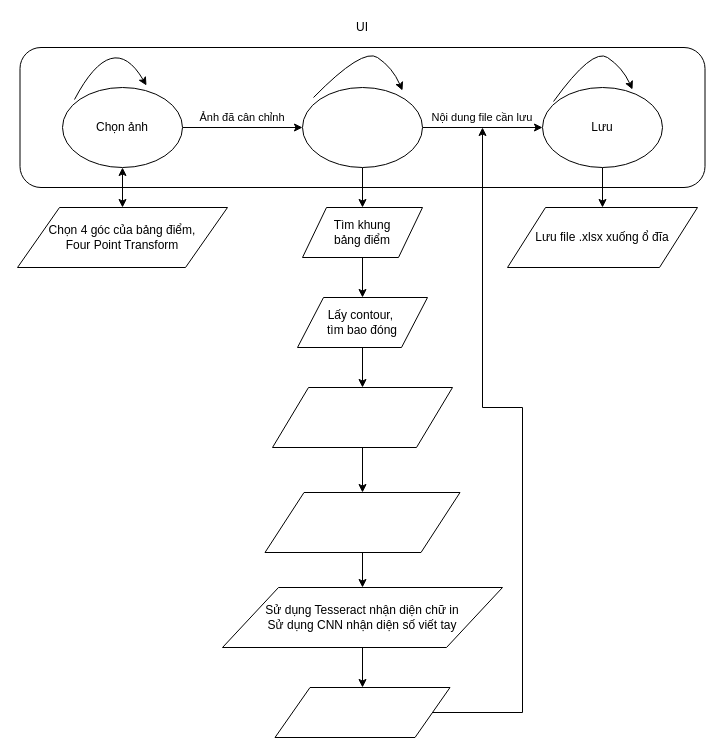
The diagram is 723 pixels wide and 755 high, and some of its shapes have lost their labels. Each missing label, with the centre of its shape:
"Bắt đầu xử lý" goes at (362,127).
"Chuyển kết quả vào file .xlsx" goes at (362,712).
"Người dùng chọn các cột có chữ viết tay" goes at (362,522).
"Xắp xếp các bao đóng, lưu vào ma trận tọa độ" goes at (362,417).
